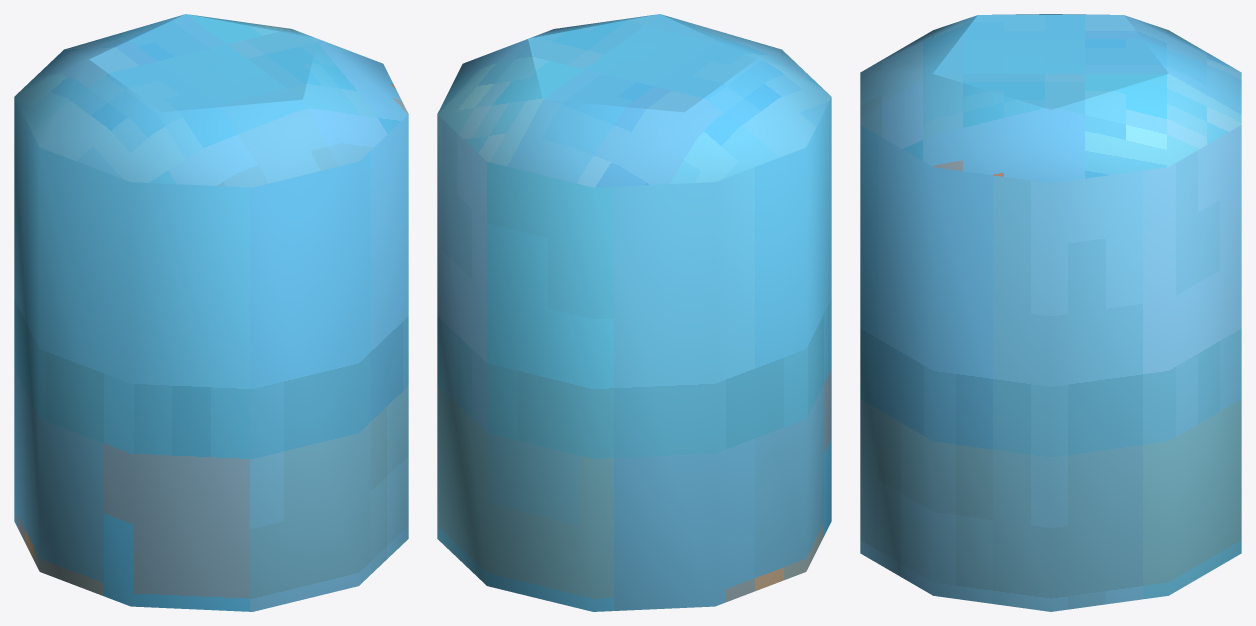
Rendered from eqp_bottle_s03_l2.fbx.
3 renders of one model, left to right at view 1: azimuth 30°, elevation 25°; view 2: azimuth 150°, elevation 25°; view 3: azimuth 270°, elevation 25°, orthographic.
Parts seen in each view (by area): view 1: mesh_node; view 2: mesh_node; view 3: mesh_node.
Boxes of the visible parts, left/top/right/bottom form: mesh_node: left=14, top=14, right=408, bottom=611; mesh_node: left=437, top=14, right=831, bottom=611; mesh_node: left=860, top=14, right=1241, bottom=611.
Size of the model in its own units: 0.0843 by 0.109 by 0.0802.
